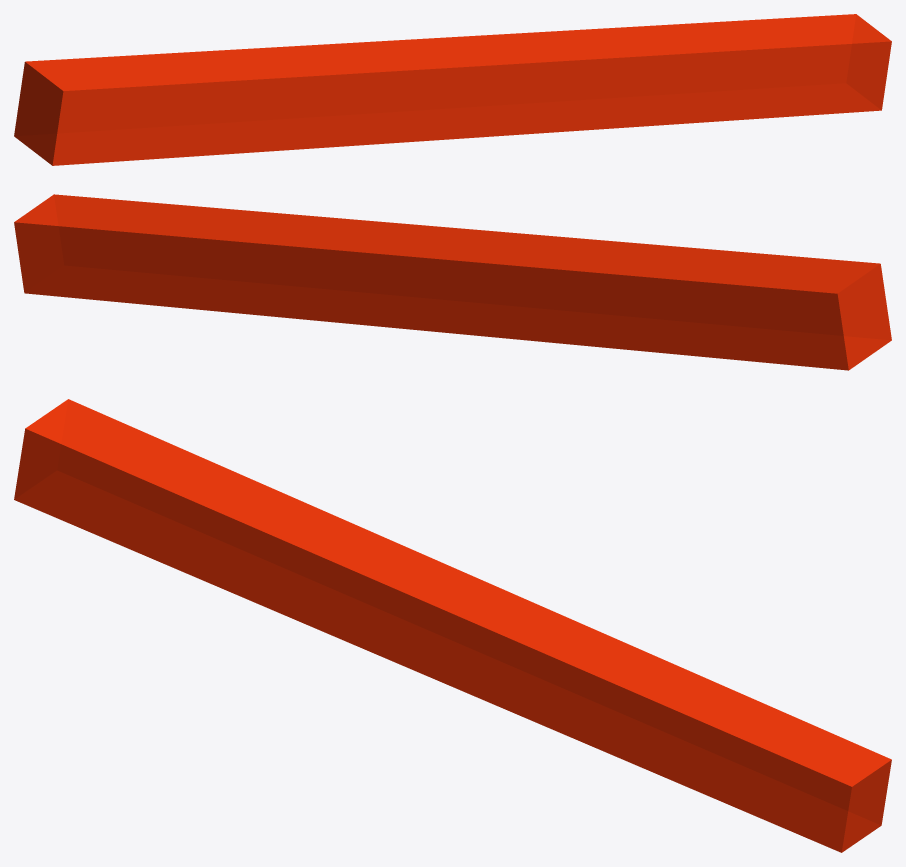
The model's file is Event_421127236_EErechit_2.fbx.
3 views of the same model, one above another, from view 1: azimuth 30°, elevation 25°; view 2: azimuth 150°, elevation 25°; view 3: azimuth 330°, elevation 25° (orthographic). The views are drawn at different scales.
Visible parts, largest first — view 1: Model; view 2: Model; view 3: Model.
Part boxes in pixels (x1=…): Model: x1=14, y1=14, x2=891, y2=165; Model: x1=14, y1=194, x2=891, y2=370; Model: x1=14, y1=399, x2=891, y2=852.
Size of the model in its own units: 0.9318 by 0.2231 by 0.1018.
